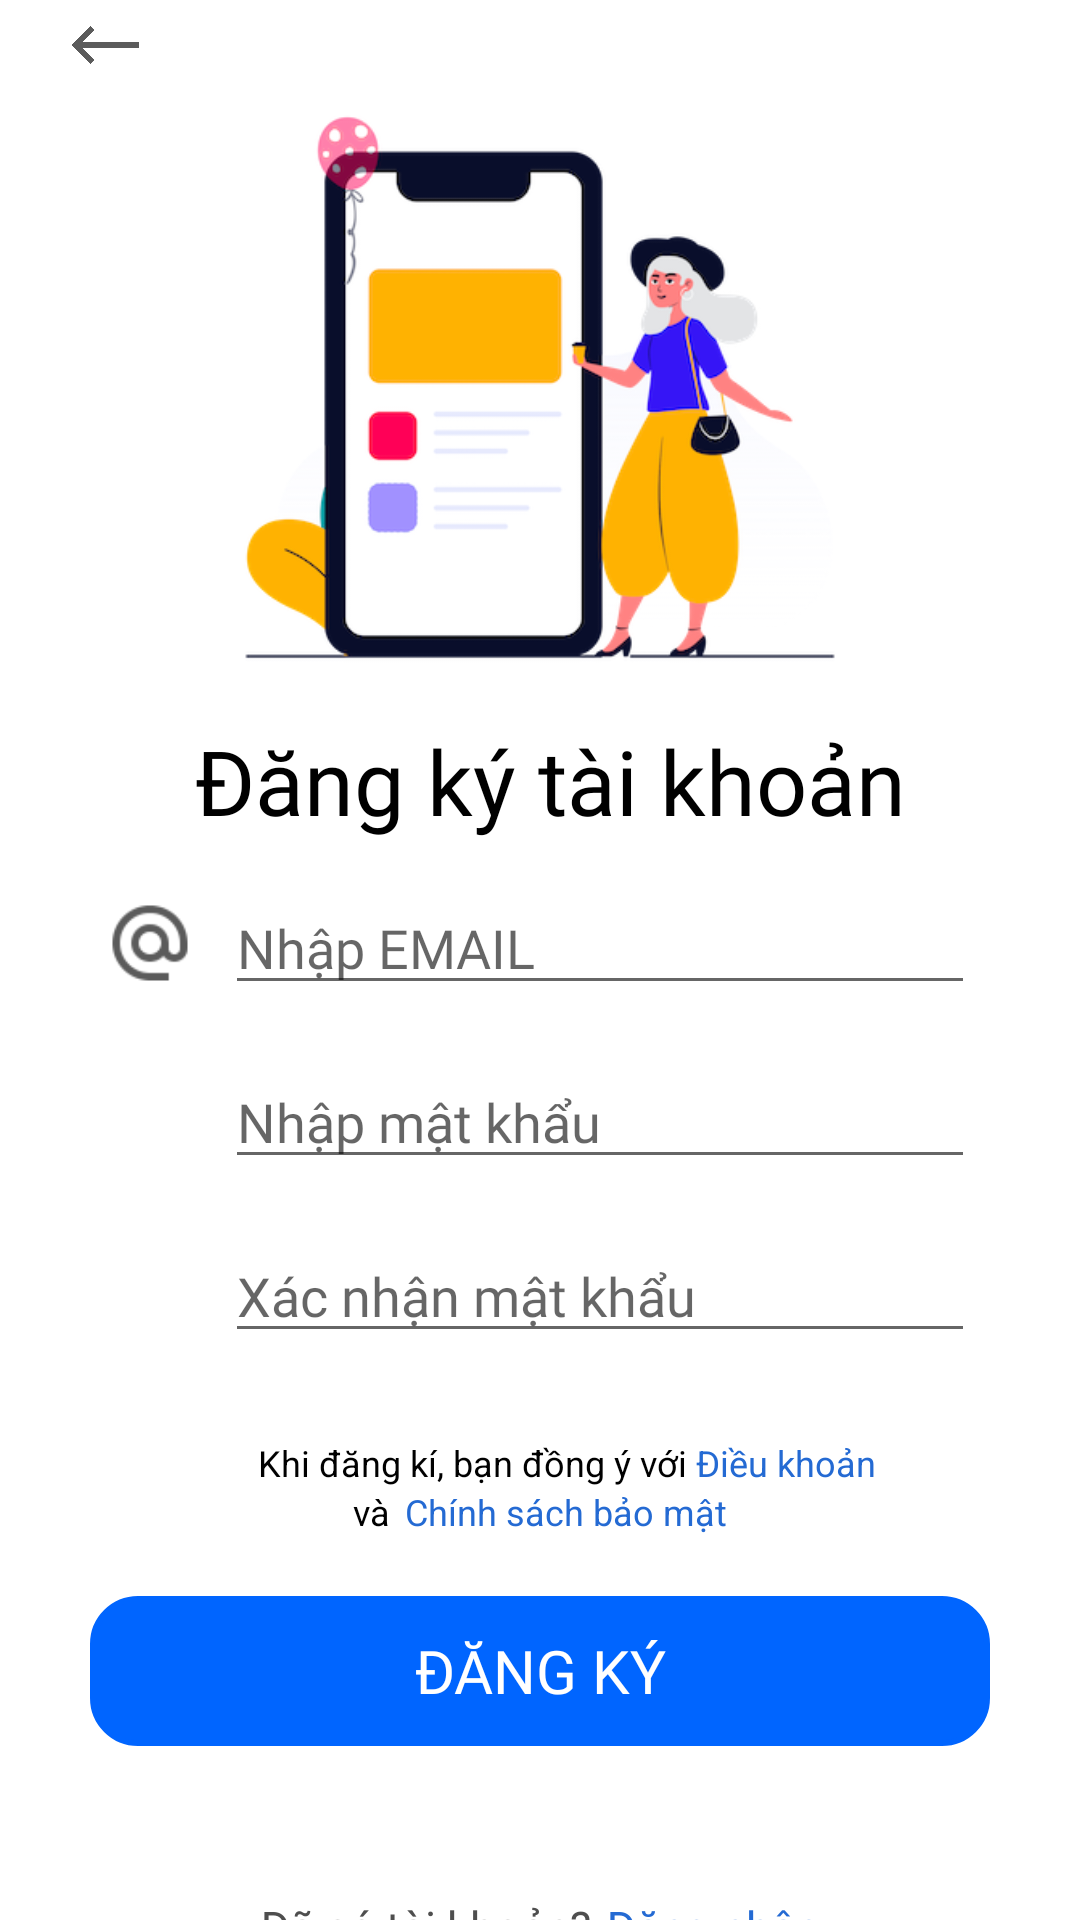

Named icons in this screenshot (1080 × 1920) and their bounding boxes, (x1=x1, y1=y1, x2=x2, y2=y2):
back: (x1=72, y1=26, x2=139, y2=64)
signin email: (x1=112, y1=905, x2=188, y2=981)
